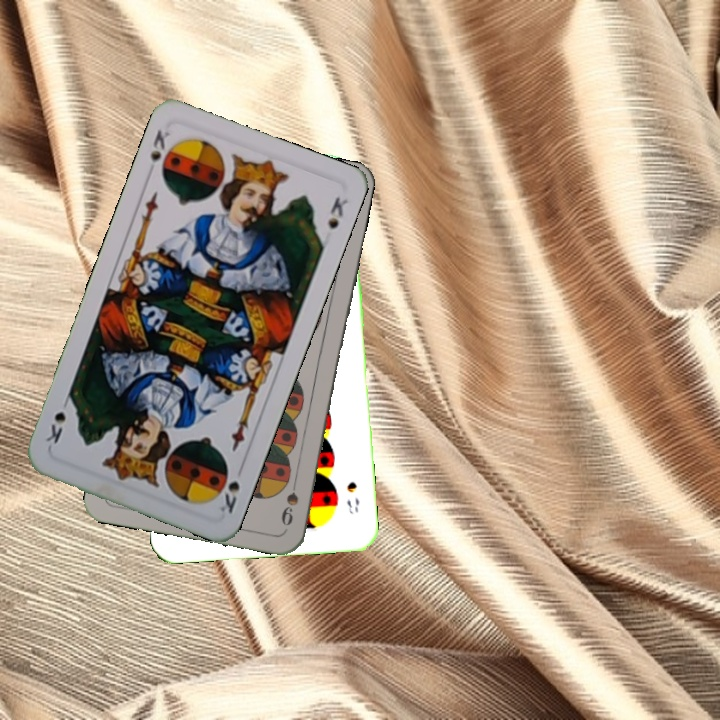S8: (343, 477, 362, 516)
S9: (277, 471, 302, 529)
SK: (213, 461, 243, 516), (145, 125, 173, 179)
